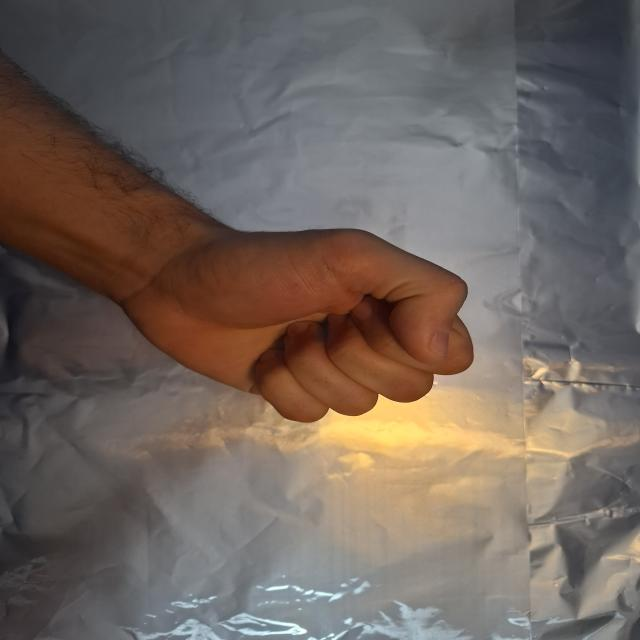glove_off: (103, 209, 480, 426)
